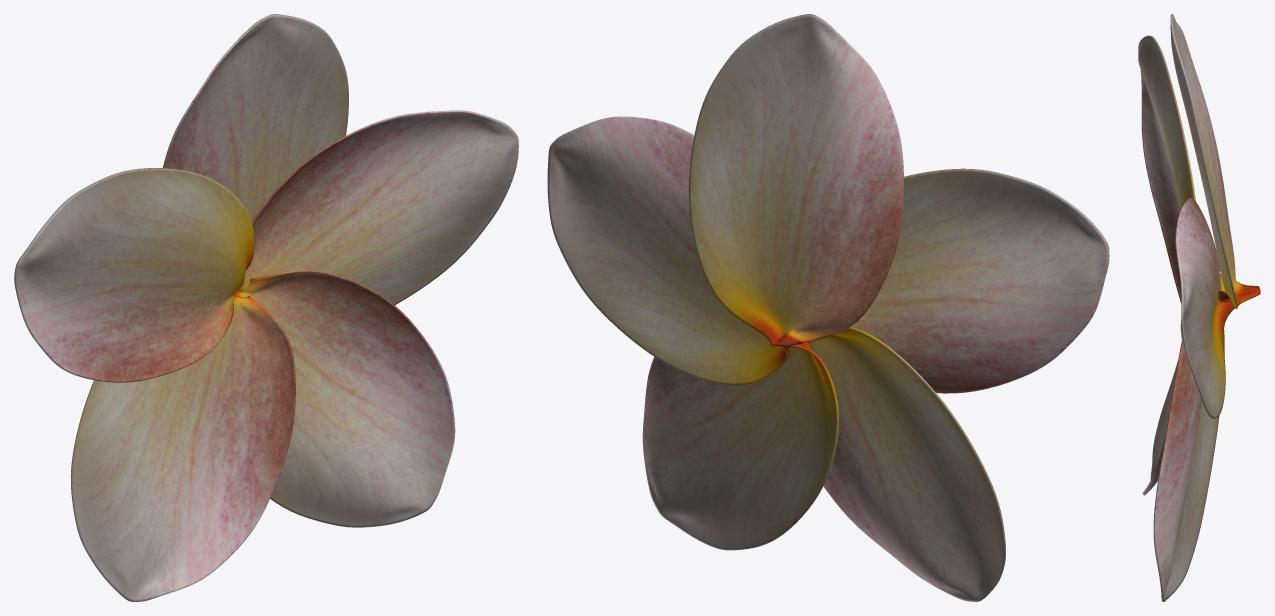
File: frangipani-high.glb
3 renders of one model, left to right at view 1: azimuth 30°, elevation 25°; view 2: azimuth 150°, elevation 25°; view 3: azimuth 270°, elevation 25°, orthographic. The views are drawn at different scales.
Visible parts, largest first — view 1: Leaf.004, Leaf.005, Leaf.003, Leaf.002, Leaf.001; view 2: Leaf.001, Leaf.005, Leaf.002, Leaf.004, Leaf.003; view 3: Leaf.003, Leaf.002, Leaf.005, Leaf.001, Leaf.004.
Part boxes in pixels (x1,y1,x2,y2): Leaf.004: [70, 295, 295, 601]; Leaf.005: [14, 168, 254, 382]; Leaf.003: [233, 270, 455, 527]; Leaf.002: [237, 110, 518, 304]; Leaf.001: [163, 14, 348, 221]; Leaf.001: [689, 14, 903, 346]; Leaf.005: [851, 168, 1109, 393]; Leaf.002: [547, 116, 789, 385]; Leaf.004: [807, 327, 1005, 601]; Leaf.003: [642, 342, 838, 550]; Leaf.003: [1153, 291, 1229, 601]; Leaf.002: [1175, 197, 1234, 418]; Leaf.005: [1138, 35, 1195, 302]; Leaf.001: [1170, 14, 1260, 308]; Leaf.004: [1142, 299, 1229, 495].
Bounding box in the file's own units: 1.01 × 1 × 0.2097.
Materials: 1 (1 with a texture image).
